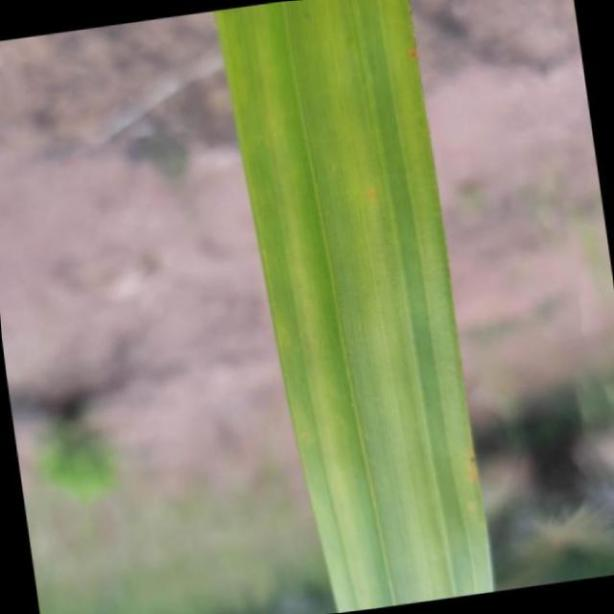nitrogen: (225, 0, 499, 614)
